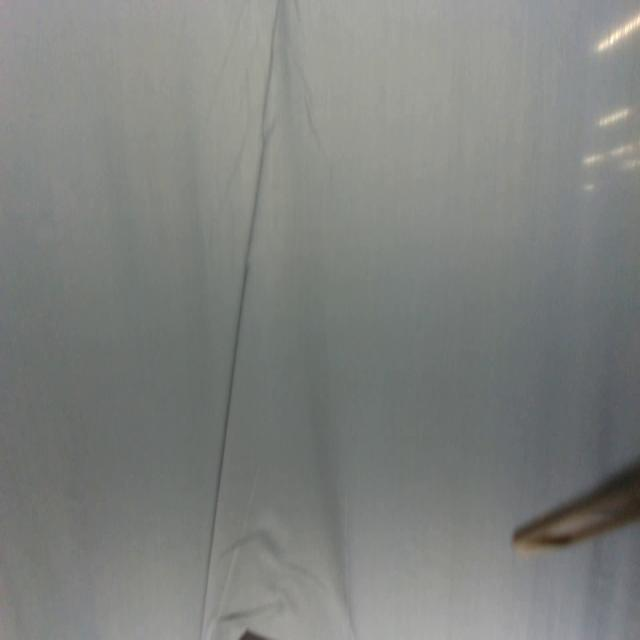crease: (198, 0, 280, 638)
